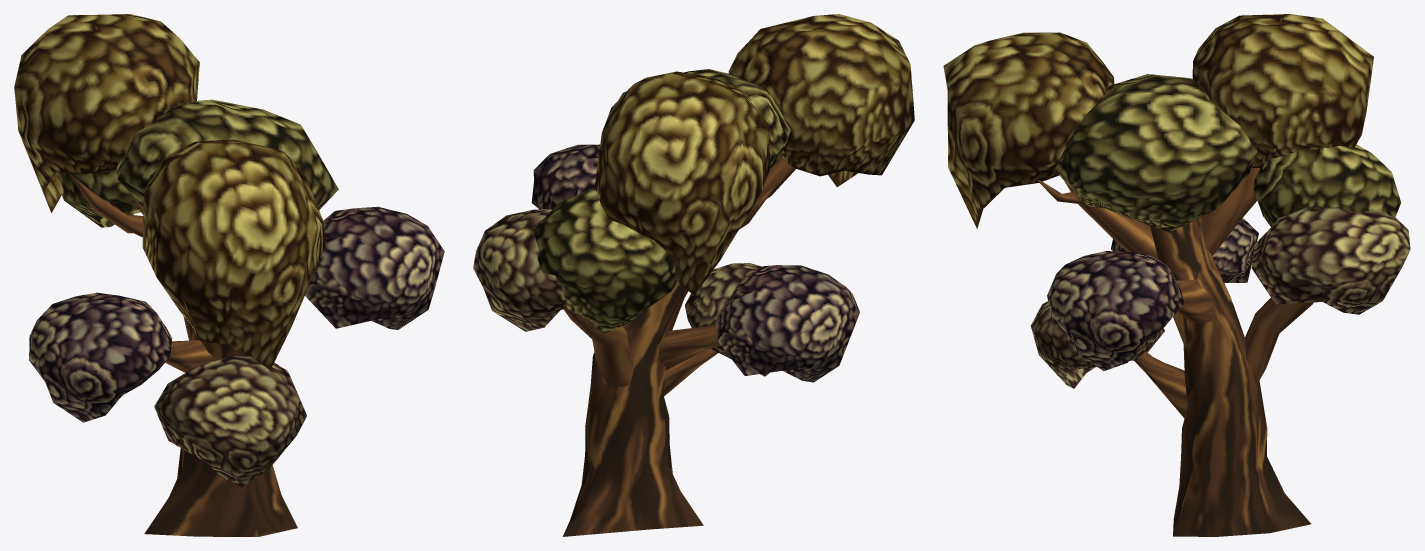
Rendered from Ntree_3_1.fbx.
3 views of the same model, side by side, from view 1: azimuth 30°, elevation 25°; view 2: azimuth 150°, elevation 25°; view 3: azimuth 270°, elevation 25° (orthographic). The views are drawn at different scales.
Visible parts, largest first — view 1: Ntree_3_1; view 2: Ntree_3_1; view 3: Ntree_3_1.
Boxes of the visible parts, x1=… form: Ntree_3_1: x1=14, y1=14, x2=444, y2=536; Ntree_3_1: x1=473, y1=14, x2=914, y2=536; Ntree_3_1: x1=943, y1=14, x2=1410, y2=536.
Bounding box in the file's own units: 200 × 266 × 246.
